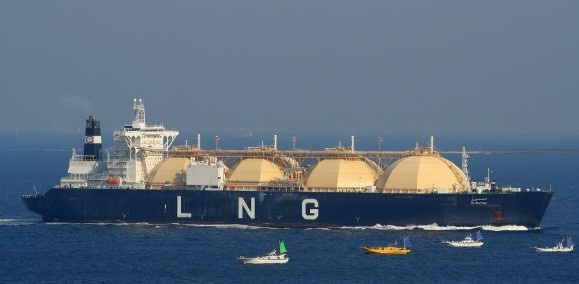Cargoship: (12, 93, 555, 235)
otherboat: (234, 239, 291, 267), (361, 234, 411, 258), (529, 240, 578, 258), (441, 229, 484, 249)
